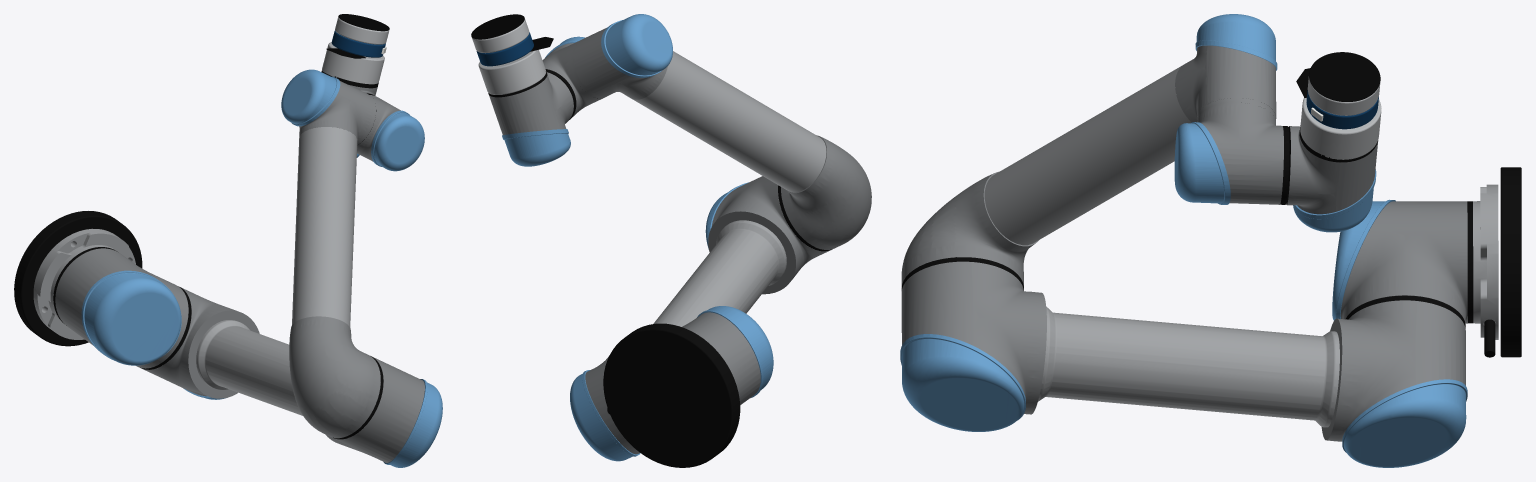
Rendered from dex_arm.glb.
The picture shows the model from 3 angles, left to right: view 1: azimuth 30°, elevation 25°; view 2: azimuth 150°, elevation 25°; view 3: azimuth 270°, elevation 25°; orthographic projection. The views are drawn at different scales.
Parts seen in each view (by area): view 1: U5_forearm_linkgray_obj_001.001, U5_forearm_jointgray_obj_001.001, U5_upper_arm_jointgray_obj_001.001, U5_shoulder_urblue_obj_001.001, U5_upper_arm_linkgray_tube080_obj_001.001, U5_pedestal.001, U5_shoulder_jointgray_obj_001.001, U5_base_linkgray_obj_001.001, U5_wrist_1_urblue_obj_001.001, U5_forearm_urblue_obj_001.001, U5_upper_arm_urblueb_obj_001.001, U5_wrist3_silver.001 (+5 smaller); view 2: U5_pedestal.001, U5_forearm_linkgray_obj_001.001, U5_forearm_jointgray_obj_001.001, U5_upper_arm_linkgray_tube080_obj_001.001, U5_upper_arm_jointgray_obj_001.001, U5_forearm_urblue_obj_001.001, U5_wrist_2_jointgray_obj_001.001, U5_shoulder_jointgray_obj_001.001, U5_upper_arm_urbluea_obj_001.001, U5_wrist_2_urblue_obj_001.001, U5_wrist3_silver.001, U5_shoulder_urblue_obj_001.001 (+4 smaller); view 3: U5_upper_arm_linkgray_tube080_obj_001.001, U5_upper_arm_jointgray_obj_001.001, U5_forearm_linkgray_obj_001.001, U5_forearm_jointgray_obj_001.001, U5_shoulder_jointgray_obj_001.001, U5_upper_arm_urblueb_obj_001.001, U5_upper_arm_urbluea_obj_001.001, U5_wrist_1_jointgray_obj_001.001, U5_wrist_2_jointgray_obj_001.001, U5_pedestal.001, U5_wrist_1_urblue_obj_001.001, U5_base_linkgray_obj_001.001 (+9 smaller).
Part boxes in pixels (x1,y1,x2,y2): U5_forearm_linkgray_obj_001.001: (292,127,357,327); U5_forearm_jointgray_obj_001.001: (289,81,380,438); U5_upper_arm_jointgray_obj_001.001: (143,286,424,462); U5_shoulder_urblue_obj_001.001: (81,270,181,365); U5_upper_arm_linkgray_tube080_obj_001.001: (196,320,302,415); U5_pedestal.001: (14,211,142,346); U5_shoulder_jointgray_obj_001.001: (55,248,188,368); U5_base_linkgray_obj_001.001: (33,228,135,339); U5_wrist_1_urblue_obj_001.001: (371,110,424,171); U5_forearm_urblue_obj_001.001: (281,69,340,126); U5_upper_arm_urblueb_obj_001.001: (383,379,442,467); U5_wrist3_silver.001: (322,42,384,84); U5_pedestal.001: (603,323,740,467); U5_forearm_linkgray_obj_001.001: (632,51,826,192); U5_forearm_jointgray_obj_001.001: (570,28,871,249); U5_upper_arm_linkgray_tube080_obj_001.001: (653,220,786,326); U5_upper_arm_jointgray_obj_001.001: (585,176,831,454); U5_forearm_urblue_obj_001.001: (601,14,672,77); U5_wrist_2_jointgray_obj_001.001: (489,72,573,135); U5_shoulder_jointgray_obj_001.001: (682,312,760,404); U5_upper_arm_urbluea_obj_001.001: (570,370,640,461); U5_wrist_2_urblue_obj_001.001: (502,129,570,166); U5_wrist3_silver.001: (478,49,546,94); U5_shoulder_urblue_obj_001.001: (697,306,773,397); U5_upper_arm_linkgray_tube080_obj_001.001: (1038,307,1339,427); U5_upper_arm_jointgray_obj_001.001: (901,261,1465,441); U5_forearm_linkgray_obj_001.001: (984,65,1191,245); U5_forearm_jointgray_obj_001.001: (901,45,1276,287); U5_shoulder_jointgray_obj_001.001: (1340,201,1467,324); U5_upper_arm_urblueb_obj_001.001: (900,334,1025,431); U5_upper_arm_urbluea_obj_001.001: (1342,379,1467,467); U5_wrist_1_jointgray_obj_001.001: (1197,102,1283,204); U5_wrist_2_jointgray_obj_001.001: (1287,126,1378,214); U5_pedestal.001: (1500,167,1521,357); U5_wrist_1_urblue_obj_001.001: (1174,122,1230,204); U5_base_linkgray_obj_001.001: (1473,184,1498,339).
Size of the model in its own units: 0.4547 by 0.514 by 0.5887.
